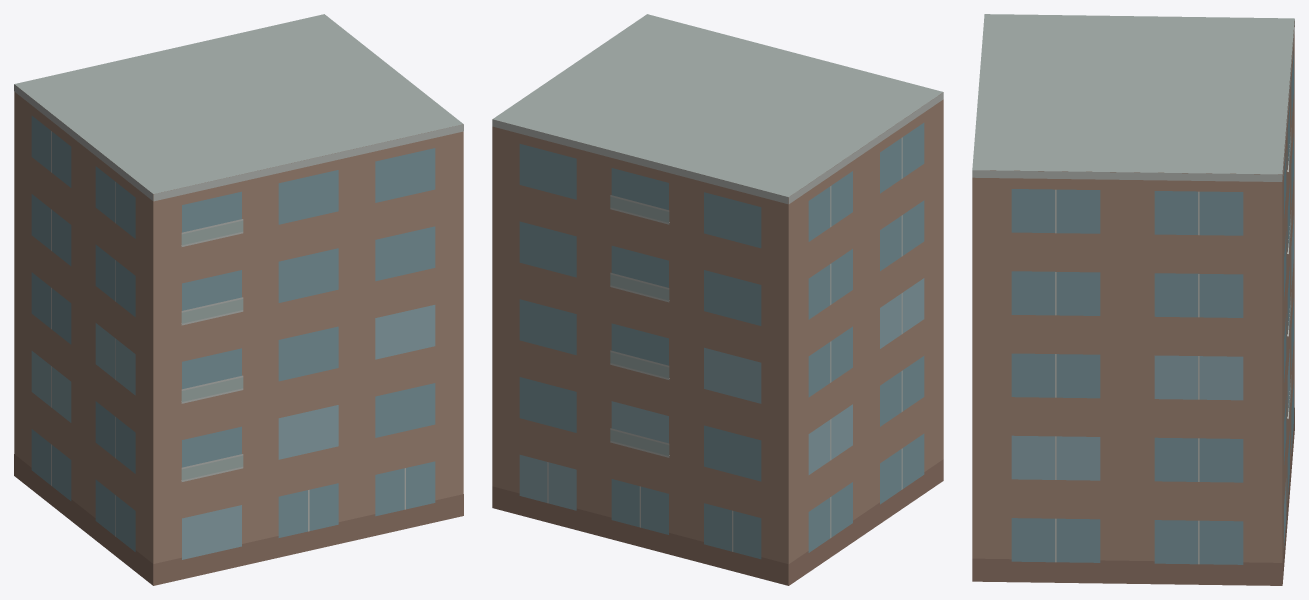
File: survey-upis-32662674.glb
3 renders of one model, left to right at view 1: azimuth 30°, elevation 25°; view 2: azimuth 150°, elevation 25°; view 3: azimuth 270°, elevation 25°, orthographic. The views are drawn at different scales.
Visible parts, largest first — view 1: survey-upis-32662674.tmp; view 2: survey-upis-32662674.tmp; view 3: survey-upis-32662674.tmp.
Part boxes in pixels (x1=…): survey-upis-32662674.tmp: x1=14, y1=14, x2=463, y2=585; survey-upis-32662674.tmp: x1=492, y1=14, x2=943, y2=585; survey-upis-32662674.tmp: x1=972, y1=14, x2=1294, y2=585.
Bounding box in the file's own units: 10.96 × 13.1 × 9.32.
